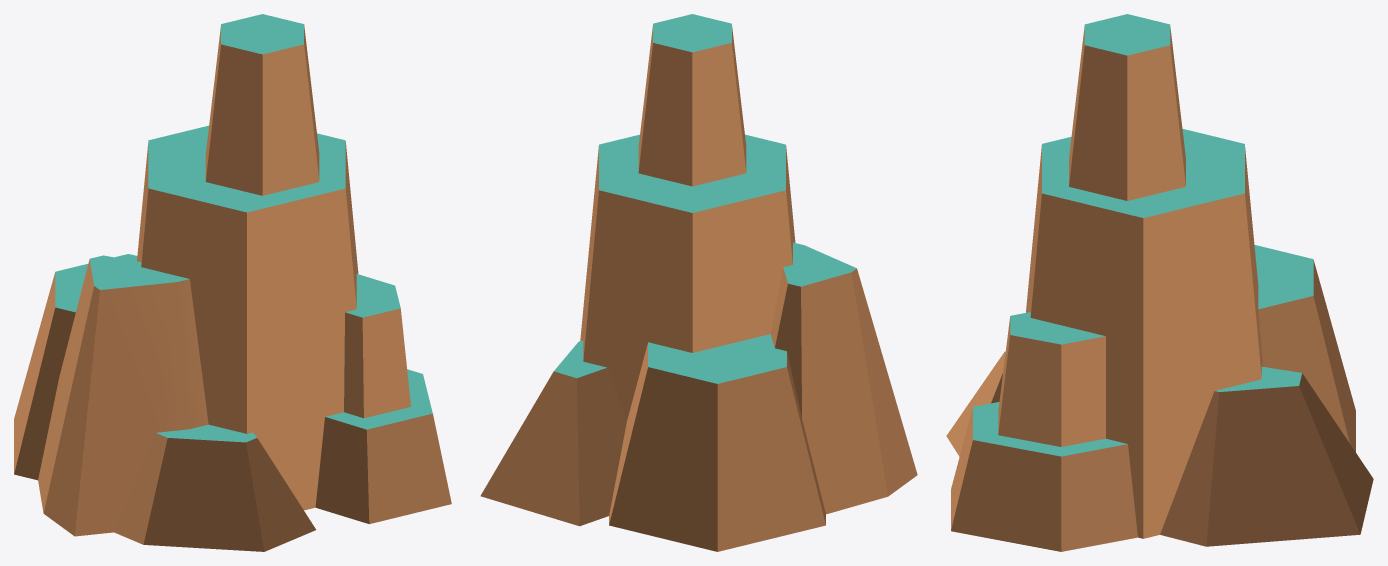
The model's file is rock_tall2.obj.
3 renders of one model, left to right at view 1: azimuth 30°, elevation 25°; view 2: azimuth 150°, elevation 25°; view 3: azimuth 270°, elevation 25°, orthographic. The views are drawn at different scales.
Visible parts, largest first — view 1: rock_tall2; view 2: rock_tall2; view 3: rock_tall2.
Part boxes in pixels (left/top/right/bottom): rock_tall2: left=14, top=14, right=451, bottom=551; rock_tall2: left=480, top=14, right=917, bottom=551; rock_tall2: left=946, top=14, right=1373, bottom=551.
Size of the model in its own units: 7.65 by 8.84 by 7.7.
